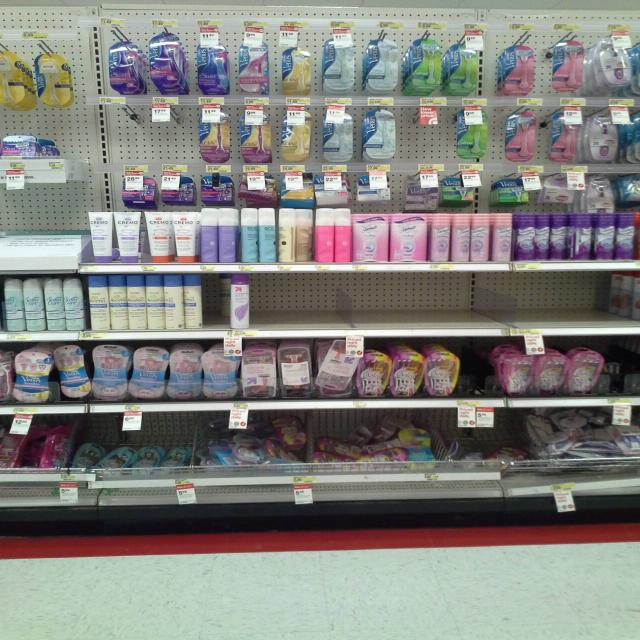void: (547, 270, 593, 341), (397, 271, 443, 340), (305, 271, 349, 342), (259, 272, 303, 342), (496, 274, 544, 338), (349, 271, 395, 337), (596, 270, 640, 339), (403, 103, 451, 161), (449, 276, 491, 341)
